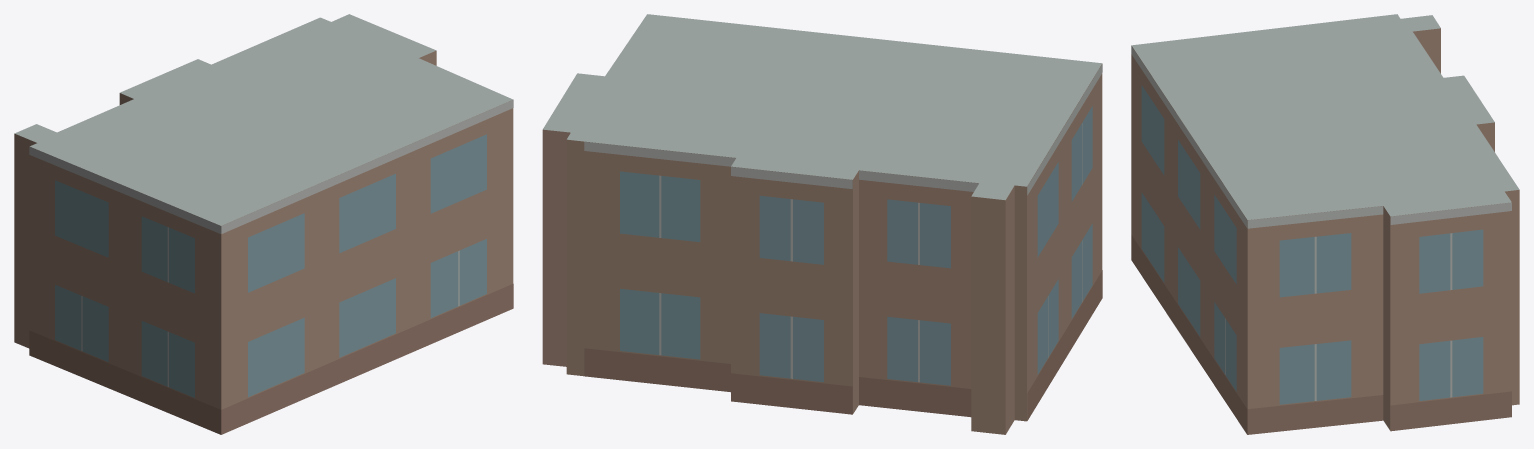
The model's file is survey-upis-32682490.glb.
The picture shows the model from 3 angles, left to right: view 1: azimuth 30°, elevation 25°; view 2: azimuth 150°, elevation 25°; view 3: azimuth 270°, elevation 25°; orthographic projection. The views are drawn at different scales.
Parts seen in each view (by area): view 1: survey-upis-32682490.tmp; view 2: survey-upis-32682490.tmp; view 3: survey-upis-32682490.tmp.
Part boxes in pixels (x1,y1,x2,y2): survey-upis-32682490.tmp: [14, 14, 513, 434]; survey-upis-32682490.tmp: [542, 14, 1102, 434]; survey-upis-32682490.tmp: [1131, 14, 1519, 434].
Size of the model in its own units: 12.57 by 6.1 by 10.
